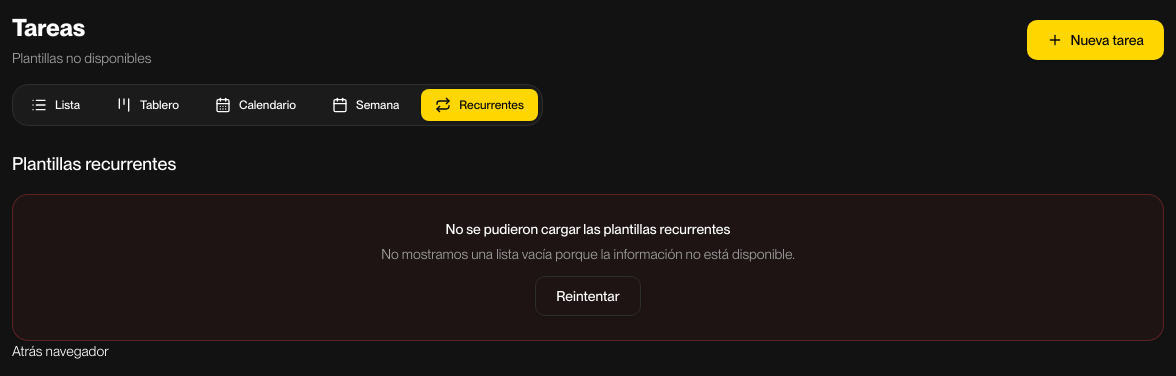
Scenario: tasks URL navigation › shows a retryable recurring-template failure instead of an empty state
Expected: the text "No se pudieron cargar las plantillas recurrentes" is shown, [446,221,730,237]
Expected: the text "Plantillas no disponibles" is shown, [12,48,151,68]
Click the button "Reintentar": (588, 296) [535,276,641,316]
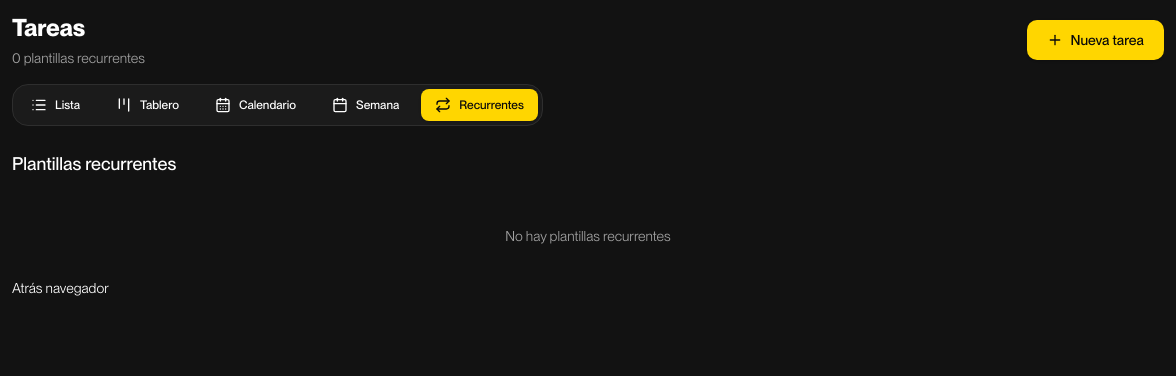
Now the text "No hay plantillas recurrentes" is shown, box [505,228,671,244]
